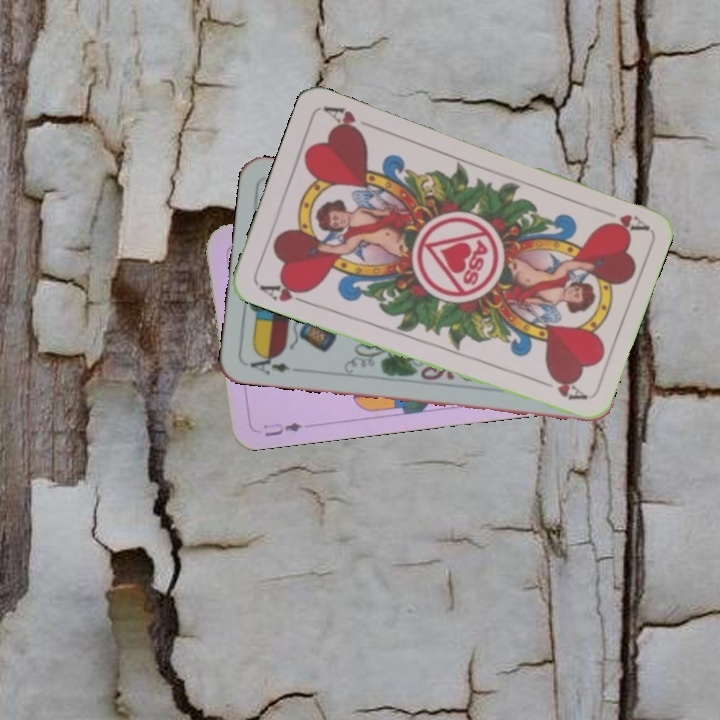EA: (245, 349, 292, 377)
EU: (259, 418, 305, 439)
HA: (592, 203, 649, 236), (255, 277, 313, 307)
